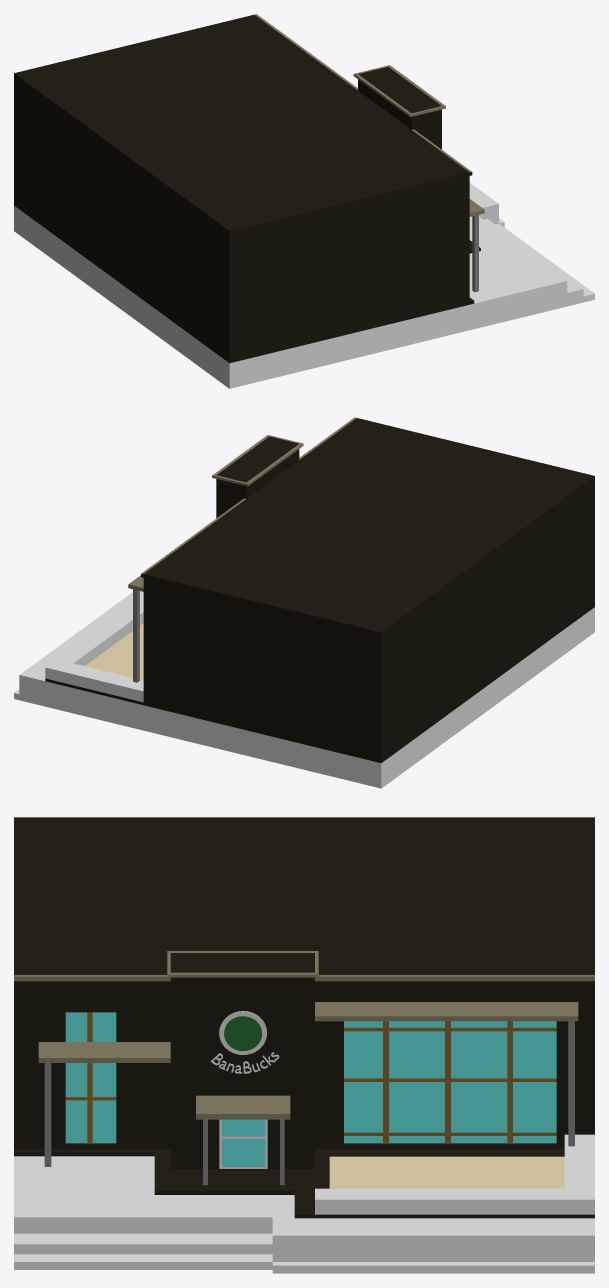
The model's file is STARBUCKS.fbx.
3 views of the same model, one above another, from view 1: azimuth 30°, elevation 25°; view 2: azimuth 150°, elevation 25°; view 3: azimuth 270°, elevation 25° (orthographic). The views are drawn at different scales.
Parts seen in each view (by area): view 1: Main, Cube.002; view 2: Main, Cube.002, Cube.001; view 3: Main, Cube.002, Cube.001, Door.
Boxes of the visible parts, bbox=[...] form: Main: bbox=[14, 14, 484, 363]; Cube.002: bbox=[14, 183, 594, 388]; Main: bbox=[45, 417, 594, 763]; Cube.002: bbox=[14, 591, 594, 788]; Cube.001: bbox=[45, 596, 143, 702]; Main: bbox=[14, 817, 594, 1218]; Cube.002: bbox=[14, 1156, 594, 1273]; Cube.001: bbox=[315, 1134, 594, 1214]; Door: bbox=[219, 1119, 267, 1168].
Size of the model in its own units: 3033 by 1362 by 3053.
